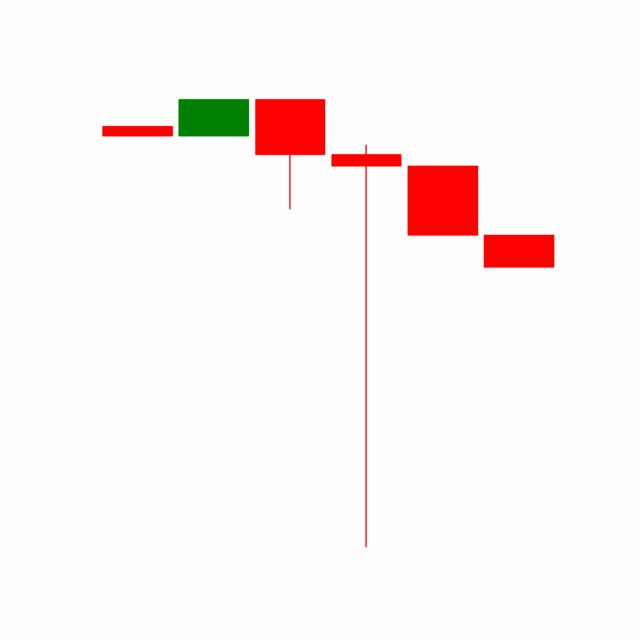Marubozu: (403, 165, 481, 236)
